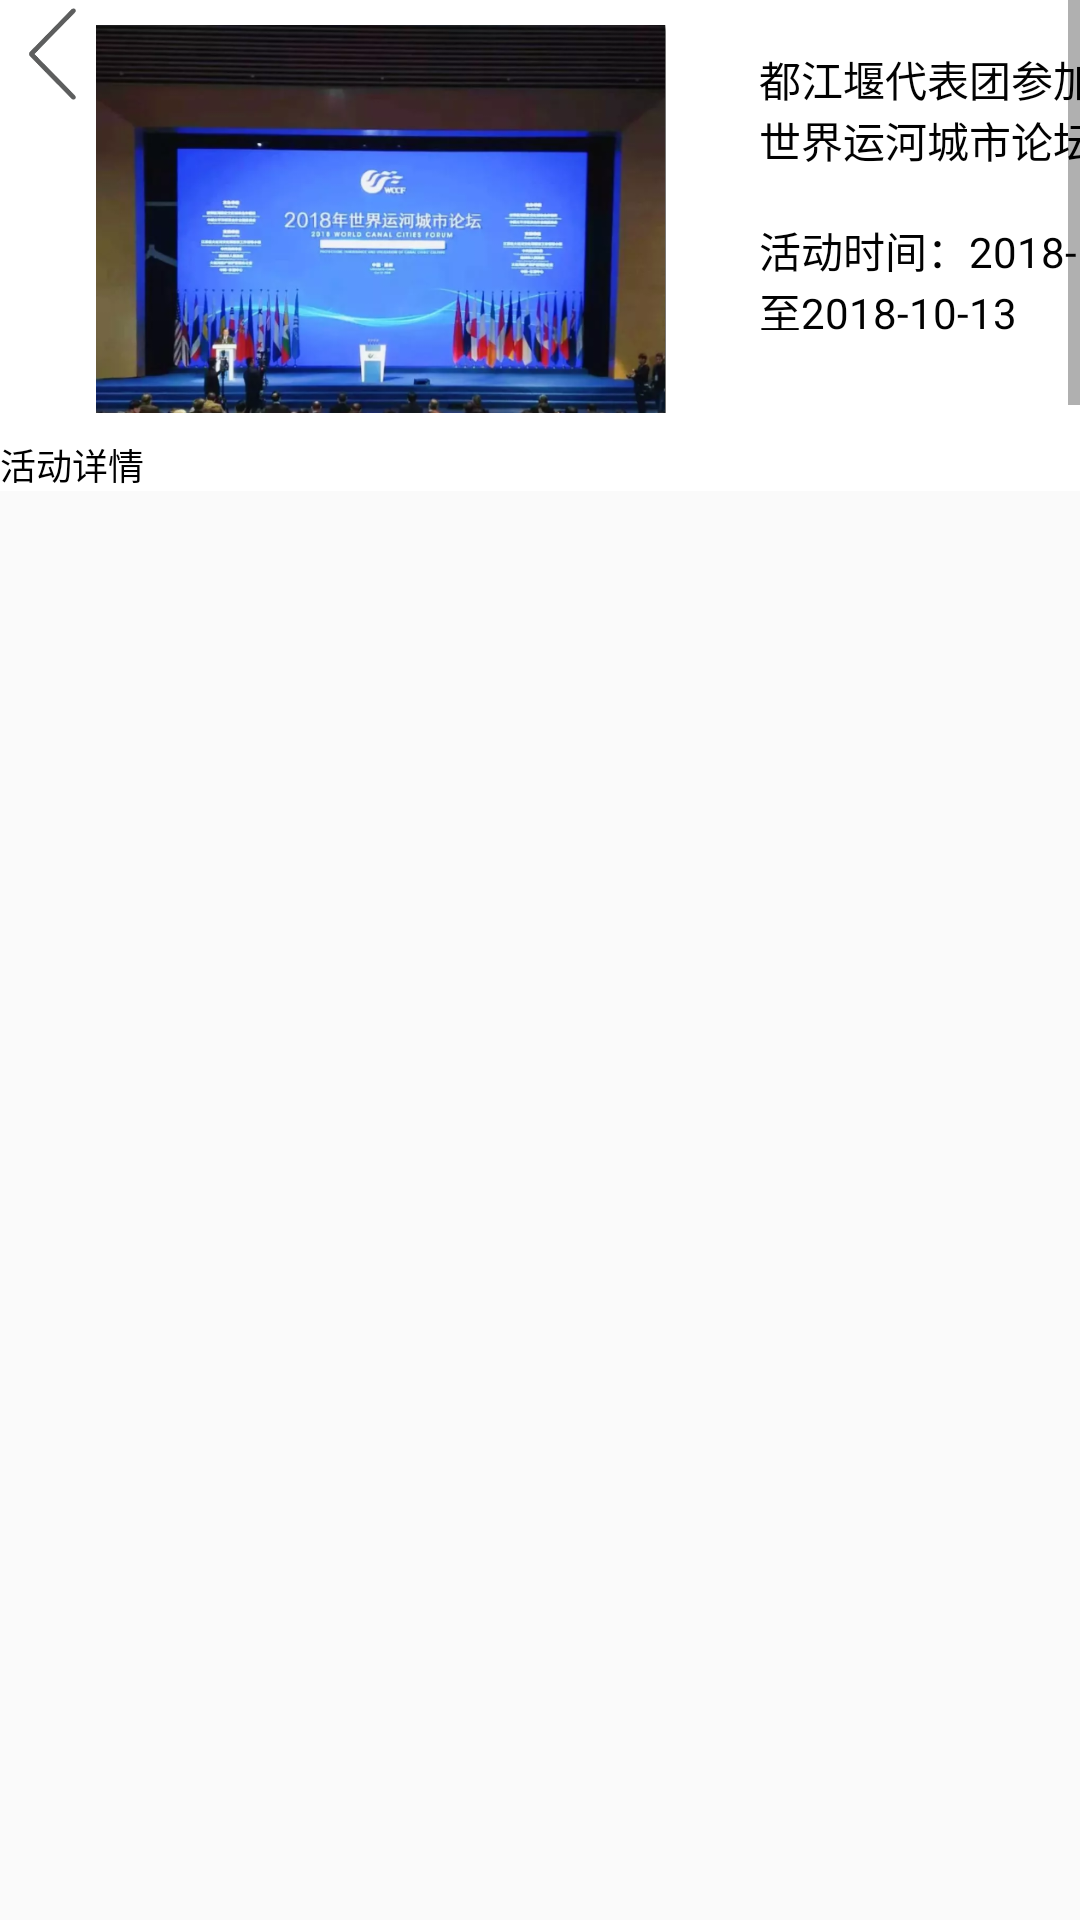

Point at icon controls on the screen. Image size 1080x1920, points as [x,y].
back: [52,54]
